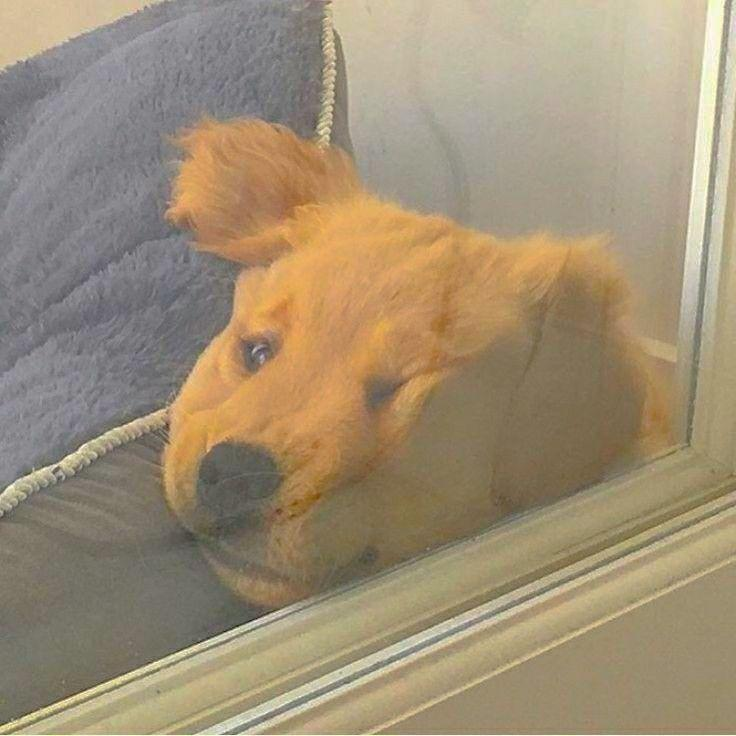adult_dog: (160, 113, 670, 608)
